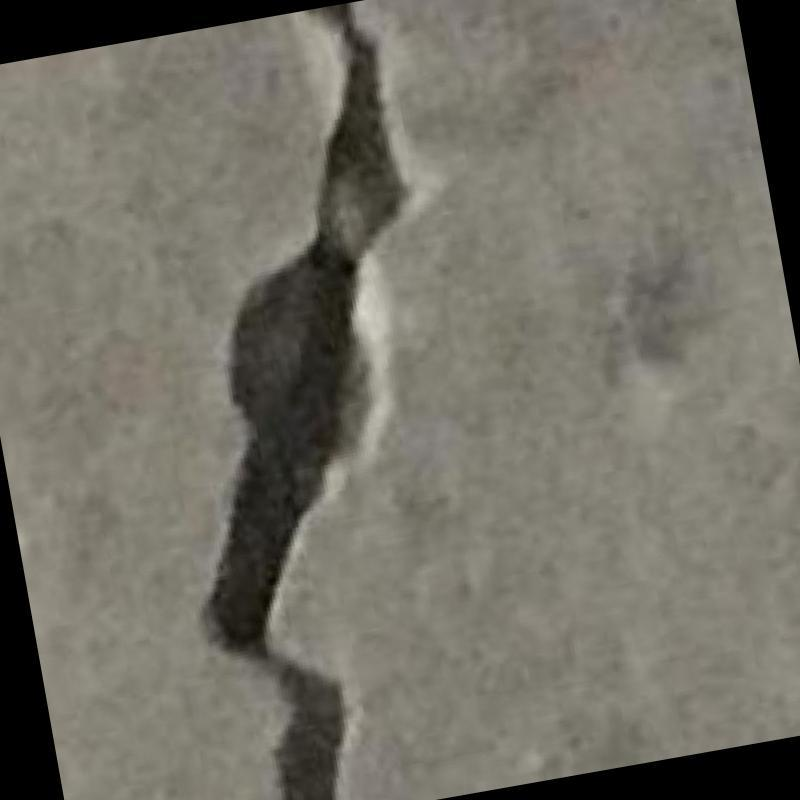pothole: (201, 3, 410, 800)
